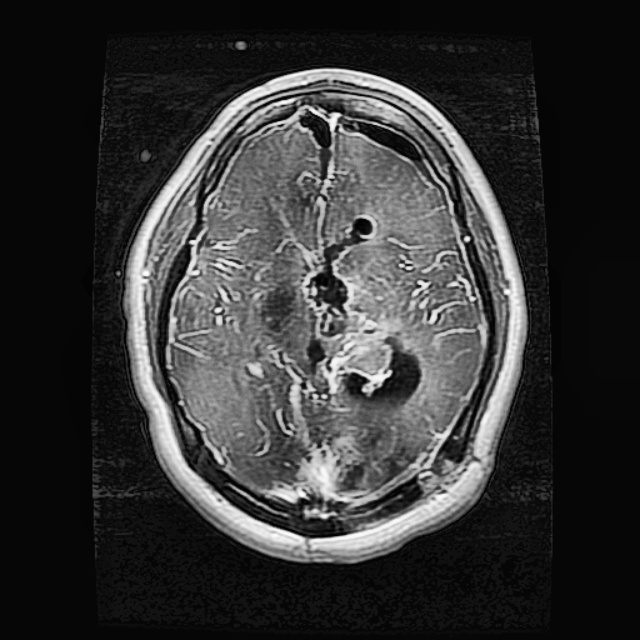Meningioma: (293, 214, 424, 407)
